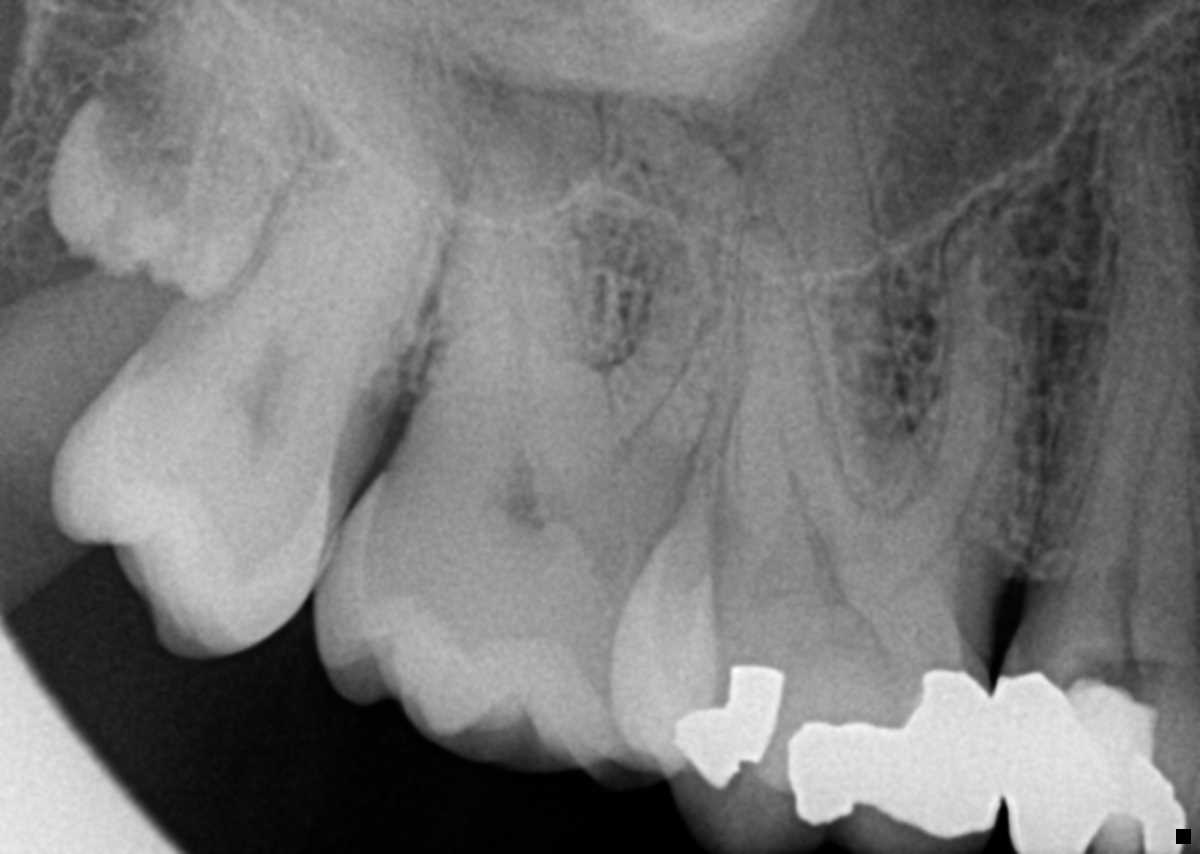Apical Lesion: (666, 77, 757, 160)
Distal Canal: (454, 112, 530, 416), (776, 344, 806, 491)
Distal Root: (405, 28, 591, 382), (684, 220, 855, 495)
Main Canal: (1118, 303, 1174, 571), (1143, 97, 1182, 293)
Main Root: (1027, 80, 1200, 569), (192, 160, 440, 411)
Mesial Canal: (625, 211, 713, 435), (945, 363, 1007, 538)
Mesial Root: (605, 92, 762, 466), (899, 208, 1044, 571)
Palatal Root: (710, 19, 938, 518), (423, 1, 638, 477)
decay: (953, 547, 1018, 674), (1005, 579, 1063, 681)
